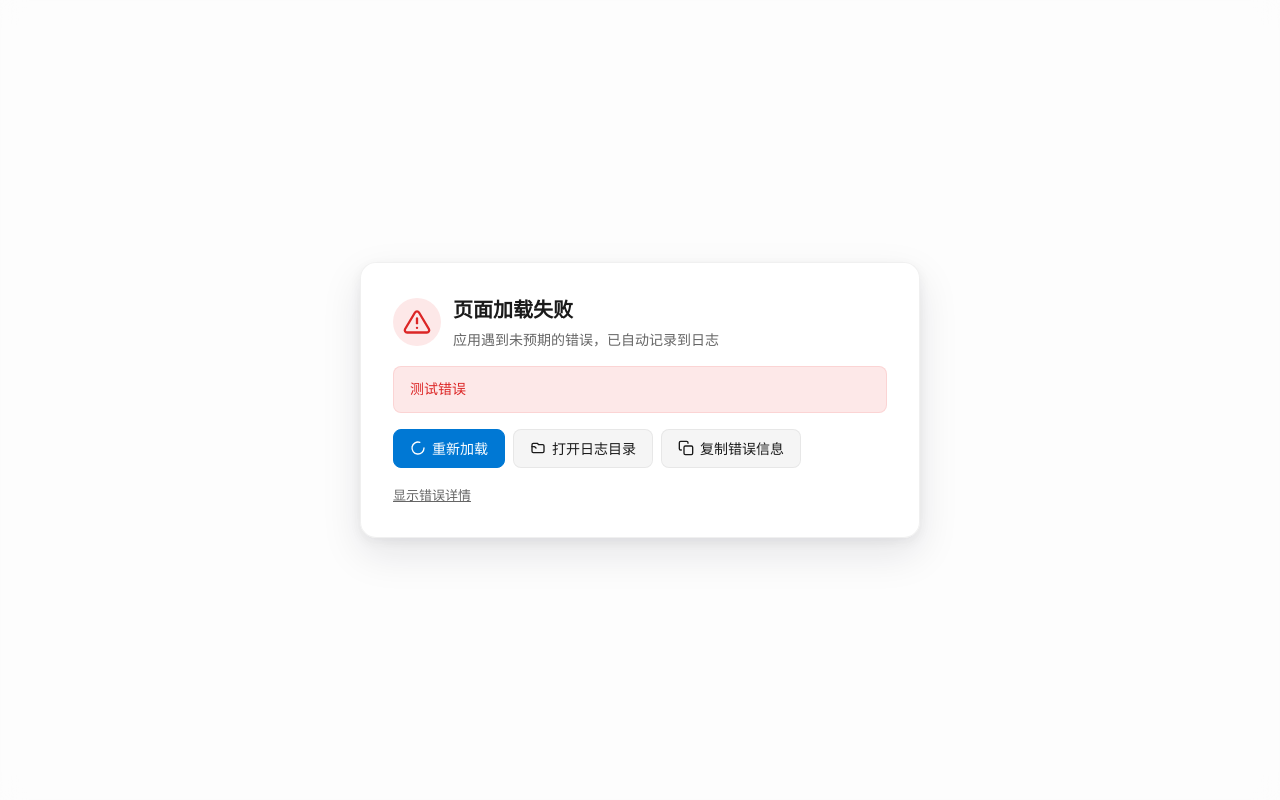
Test: ErrorFallback › 复制成功后按钮文案变为"已复制"
Click the button "复制错误信息" at (731, 448), box [661,429,801,468]
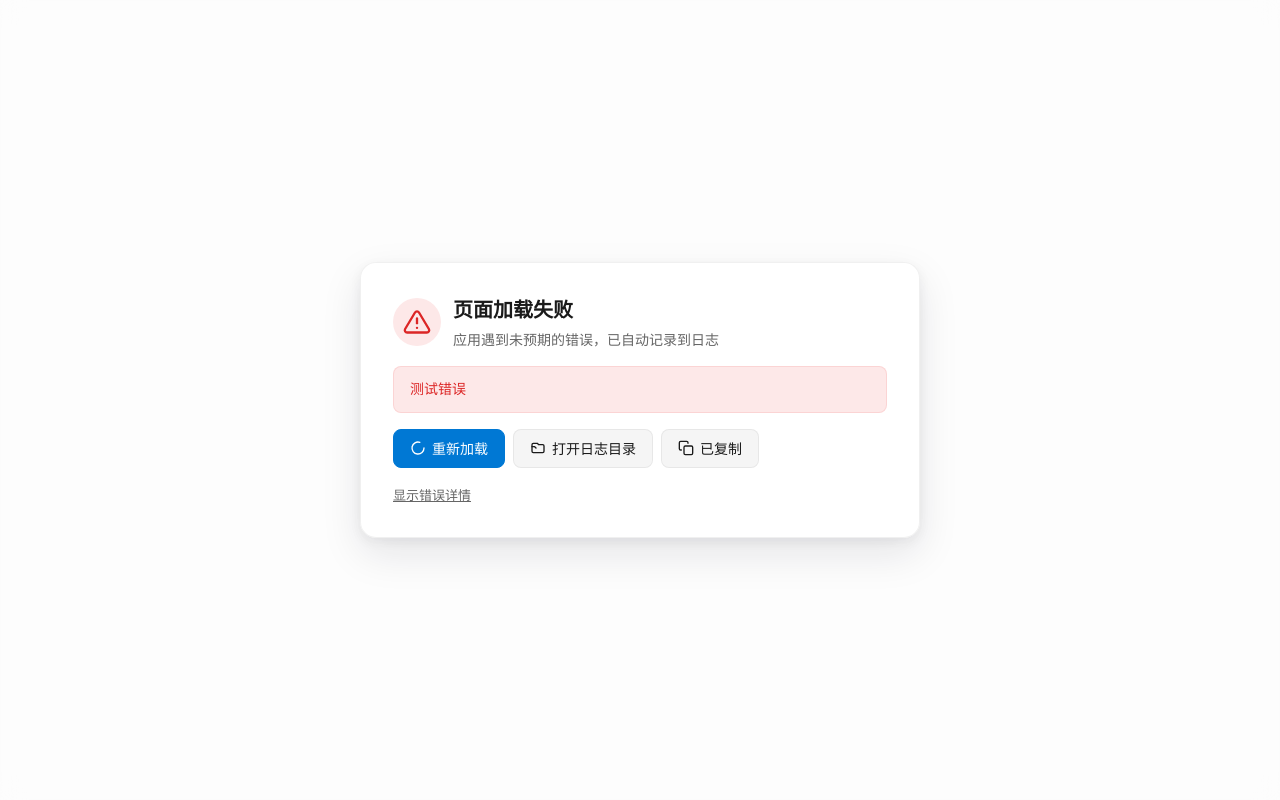
Expected: the button "已复制" is shown, [661,429,759,468]
